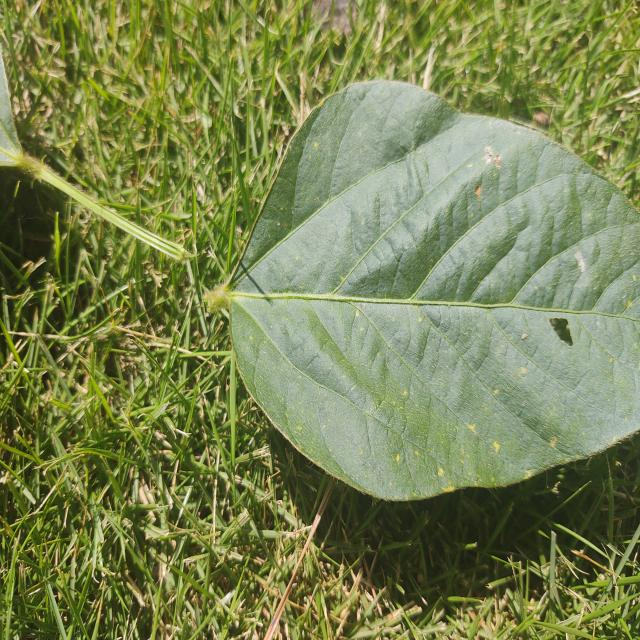Soybean: (216, 79, 640, 508)
downey_mildew: (440, 308, 640, 441), (230, 293, 346, 483), (311, 152, 427, 301), (503, 217, 640, 320), (433, 182, 539, 298), (328, 298, 420, 420), (292, 86, 367, 209), (423, 310, 498, 424), (421, 417, 528, 496), (511, 176, 592, 279), (406, 150, 487, 252), (503, 309, 598, 386), (571, 304, 640, 397), (312, 301, 370, 379), (531, 166, 576, 262), (591, 255, 640, 321), (409, 91, 462, 151)
